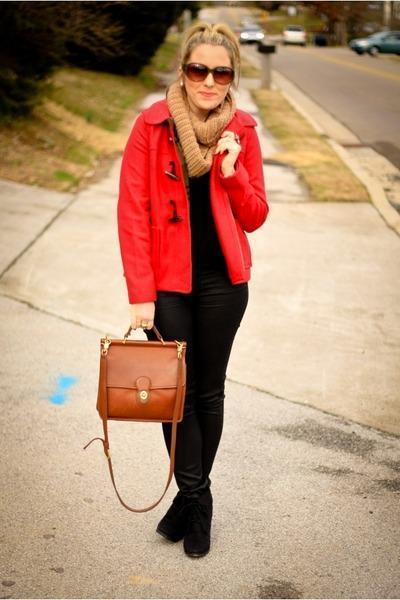bag: (92, 324, 185, 491)
jacket: (117, 99, 271, 303)
pants: (144, 276, 247, 493)
shirt: (185, 171, 227, 292)
shoe: (180, 475, 212, 558)
sunglass: (182, 50, 234, 102)
